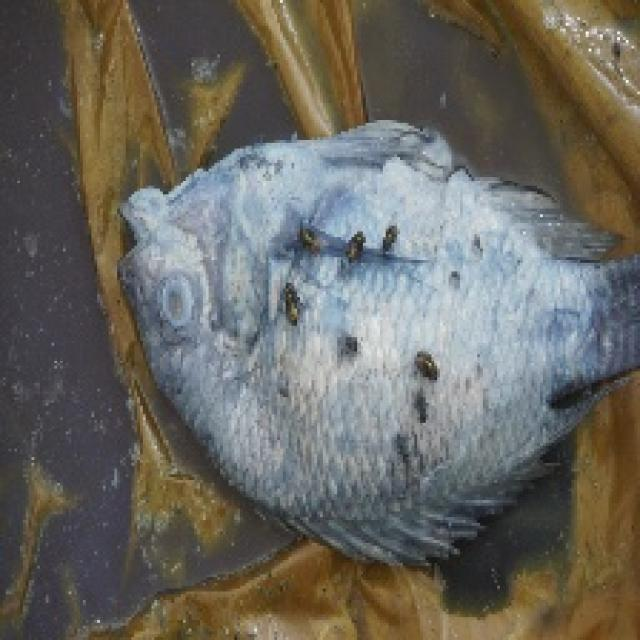Non-Fresh: (95, 111, 640, 547), (144, 263, 228, 356)
